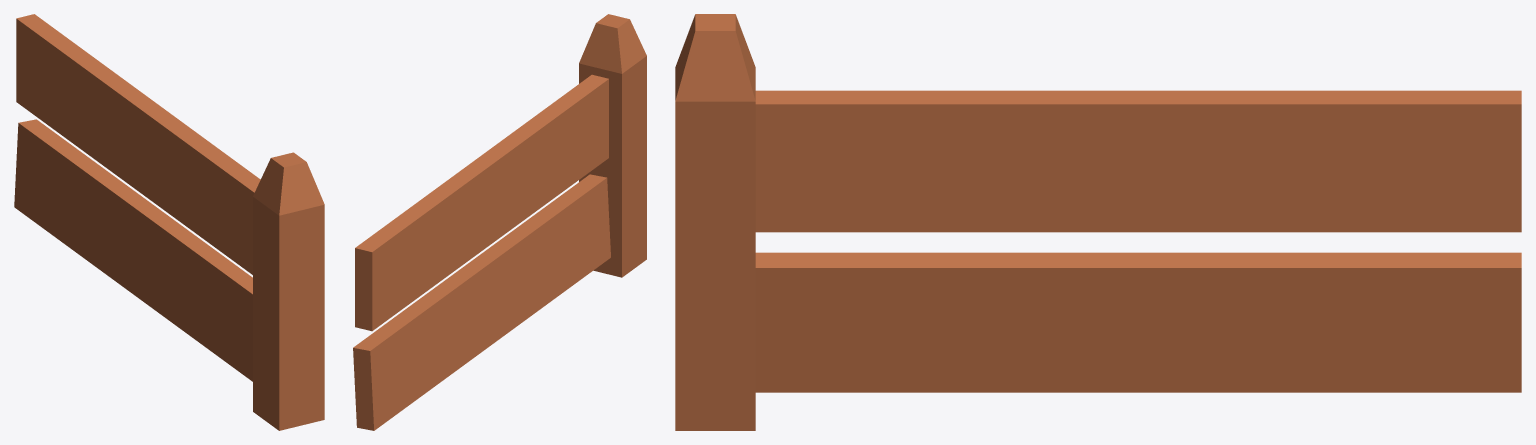
Rendered from fance.fbx.
3 views of the same model, side by side, from view 1: azimuth 30°, elevation 25°; view 2: azimuth 150°, elevation 25°; view 3: azimuth 270°, elevation 25° (orthographic). The views are drawn at different scales.
Visible parts, largest first — view 1: Cube, Cube.004, Cube.001; view 2: Cube, Cube.004, Cube.001; view 3: Cube.004, Cube, Cube.001.
Part boxes in pixels (box(x1,y1,x2,y2)): Cube: box(14, 119, 252, 381); Cube.004: box(16, 14, 260, 274); Cube.001: box(253, 152, 324, 430); Cube: box(353, 174, 610, 430); Cube.004: box(355, 74, 608, 331); Cube.001: box(579, 14, 646, 277); Cube.004: box(755, 90, 1521, 232); Cube: box(755, 252, 1521, 392); Cube.001: box(675, 14, 755, 430).
Size of the model in its own units: 39.95 by 214 by 420.
